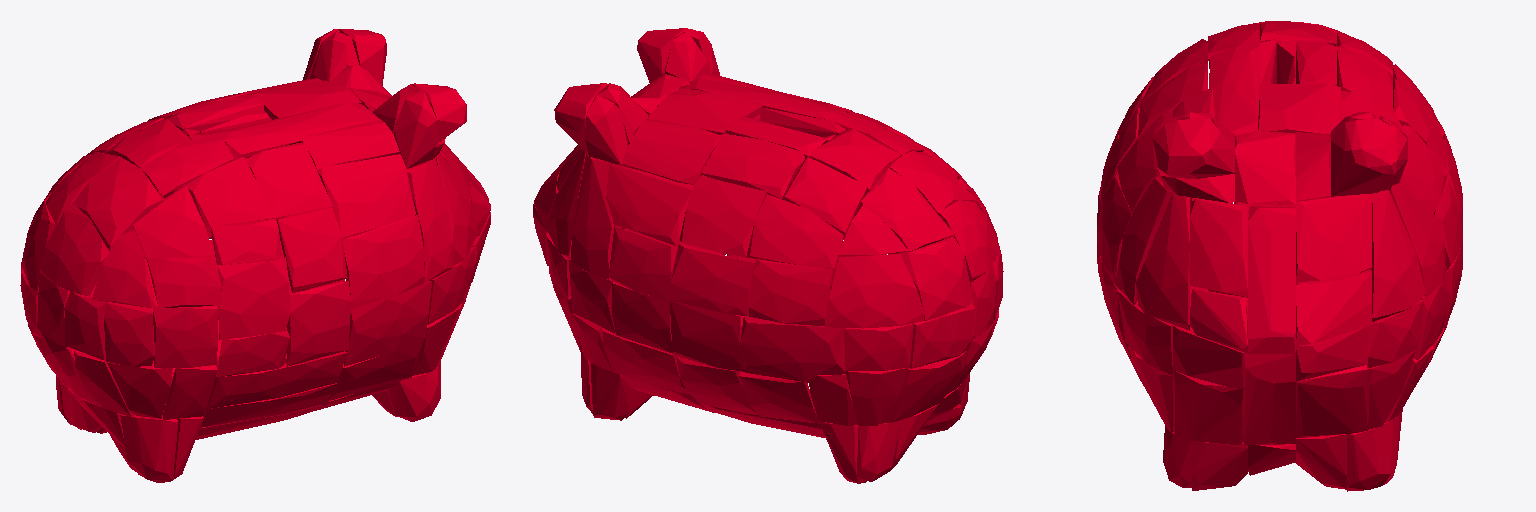
URDF robot description (piggy_bank):
<robot name="piggy_bank">
	<link name="_name">
		<visual>
			<origin xyz="0.010742235239494696 -3.0260478012810153e-05 -0.0023488582017500577" rpy="0 0 0" />
			<geometry>
				<mesh filename="piggy_bank_vhacd.obj" scale="0.9 0.9 0.9" />
			</geometry>
       		<material name="red">
        		<color rgba="0.9 0 0.2 1.0"/>
      		</material>
		</visual>
		<collision>
			<geometry>
				<mesh filename="piggy_bank_vhacd.obj" scale="0.9 0.9 0.9" />
			</geometry>
		<origin xyz="0.010742235239494696 -3.0260478012810153e-05 -0.0023488582017500577" rpy="0 0 0" /></collision>
		<inertial>
			<mass value="1.0" />
			<inertia ixx="1.0" ixy="0.0" ixz="0.0" iyy="1.0" iyz="0.0" izz="1.0" />
		</inertial>
	</link>
</robot>

--- Facts derived from the render (not from the file) ---
Views: 3 orthographic renders of the robot side by side, from view 1: azimuth 30°, elevation 25°; view 2: azimuth 150°, elevation 25°; view 3: azimuth 270°, elevation 25°.
Robot: piggy_bank — 1 links, 0 joints (none); root link _name; default pose: every joint at zero.
Links seen in each view (by area): view 1: _name; view 2: _name; view 3: _name.
Link boxes in pixels (x1,y1,x2,y2): _name: (20, 29, 490, 482); _name: (533, 28, 1003, 483); _name: (1097, 21, 1462, 491).
Bounding box of the posed robot: 0.0912 × 0.0587 × 0.0663 m (x, y, z).
Meshes: 1 distinct files referenced, 1 mesh visuals loaded (1 OBJ).
